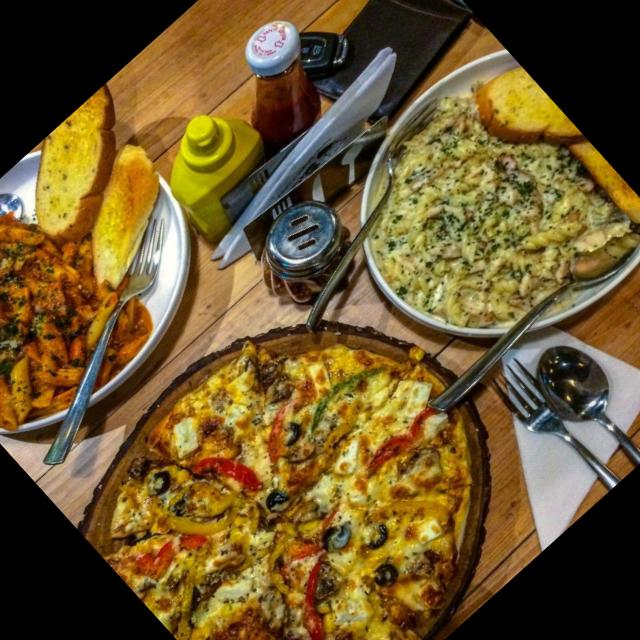black_olives: (120, 444, 178, 504), (349, 512, 396, 558), (314, 513, 356, 555), (264, 413, 304, 452), (366, 556, 404, 594), (260, 481, 296, 516)
peppers: (296, 346, 390, 436), (272, 561, 374, 640), (158, 480, 238, 560), (354, 405, 436, 481), (190, 434, 262, 508), (215, 623, 271, 640)
pizza: (85, 333, 491, 640)
